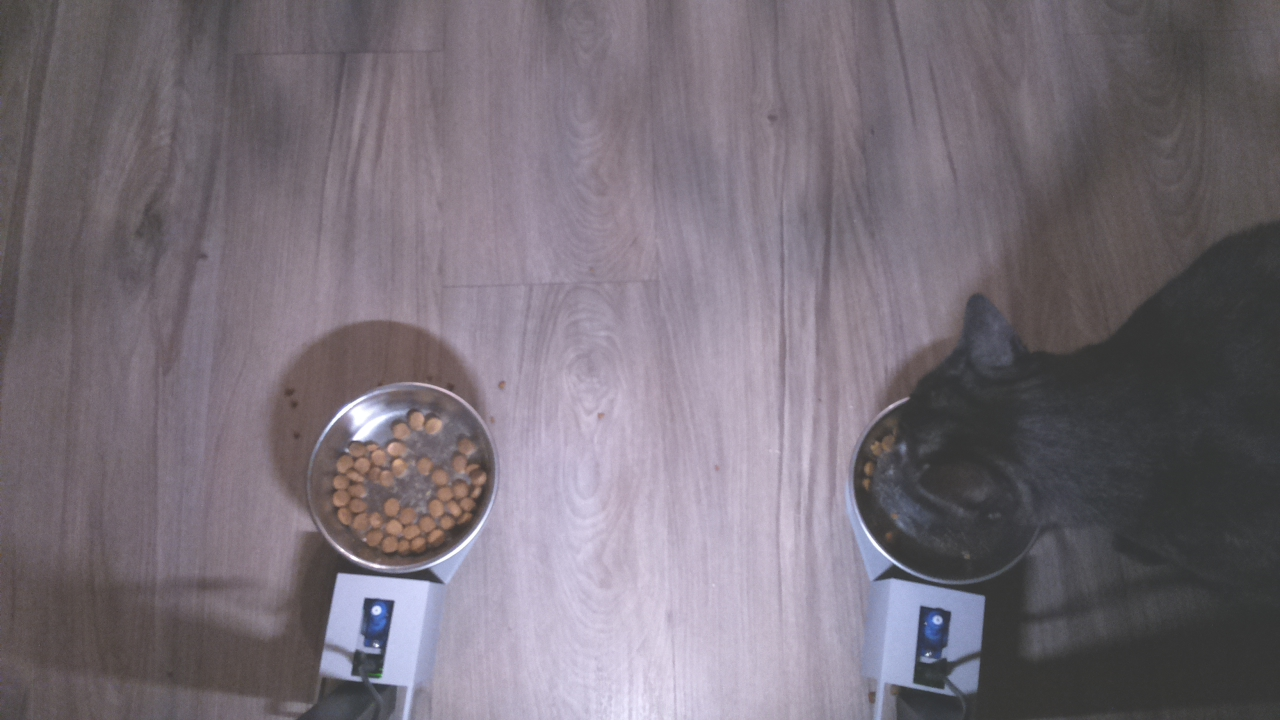open_bowl: (301, 372, 502, 585)
saki_eating: (845, 278, 1114, 592)
